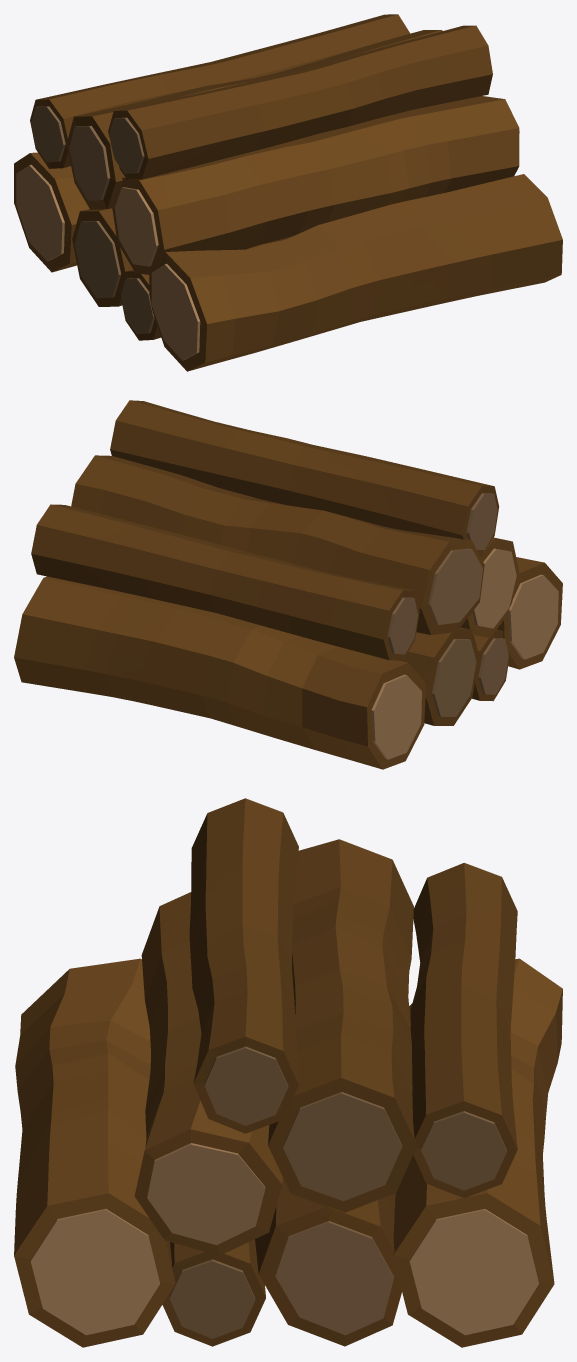
File: Logs.fbx
3 views of the same model, one above another, from view 1: azimuth 30°, elevation 25°; view 2: azimuth 150°, elevation 25°; view 3: azimuth 270°, elevation 25° (orthographic). The views are drawn at different scales.
Visible parts, largest first — view 1: Logs; view 2: Logs; view 3: Logs.
Boxes of the visible parts, x1,y1,x2,y2 form: Logs: [14, 14, 562, 371]; Logs: [14, 400, 562, 769]; Logs: [14, 798, 562, 1347].
Size of the model in its own units: 215 by 121 by 195.
